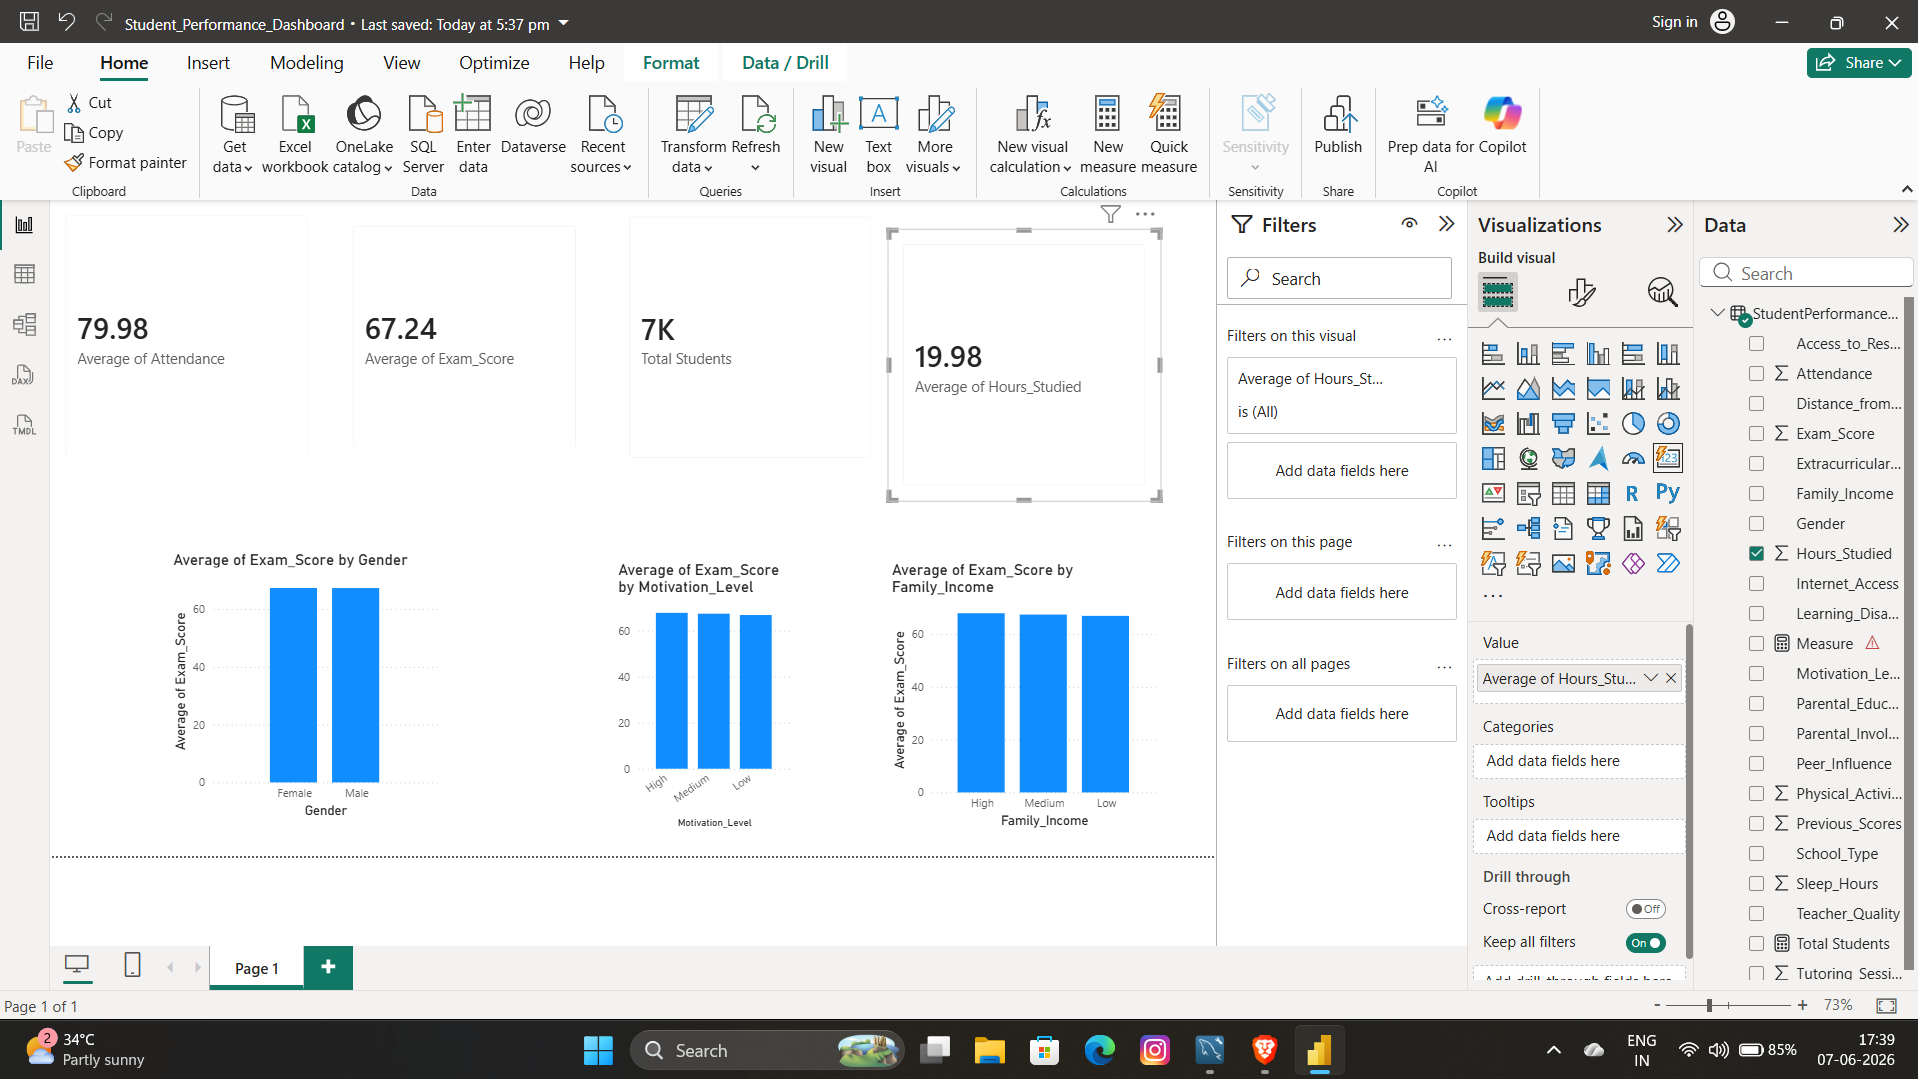

Layout of this report page (visuals, bound fields, positions):
{"tool":"powerbi","page":{"name":"Page 1","canvas":[1280,720],"ordinal":0},"visuals":[{"type":"cardVisual","fields":{"Data":["Avg(StudentPerformanceFactors.Exam_Score)"]},"box":[290.9,0,279.9,279.9],"z":5},{"type":"cardVisual","fields":{"Data":["Avg(StudentPerformanceFactors.Attendance)"]},"box":[0,0,300.5,300.5],"z":6},{"type":"cardVisual","fields":{"Data":["Avg(StudentPerformanceFactors.Hours_Studied)"]},"box":[784.9,0,300.5,299.1],"z":7},{"type":"cardVisual","fields":{"Data":["StudentPerformanceFactors.Total Students"]},"box":[570.8,0,300.5,299.1],"z":9},{"type":"clusteredColumnChart","fields":{"Category":["StudentPerformanceFactors.Gender"],"Y":["Avg(StudentPerformanceFactors.Exam_Score)"]},"box":[0,359.5,300.5,299.1],"z":10},{"type":"clusteredColumnChart","fields":{"Category":["StudentPerformanceFactors.Motivation_Level"],"Y":["Avg(StudentPerformanceFactors.Exam_Score)"]},"box":[371.9,359.5,199,299.1],"z":11},{"type":"clusteredColumnChart","fields":{"Category":["StudentPerformanceFactors.Family_Income"],"Y":["Avg(StudentPerformanceFactors.Exam_Score)"]},"box":[758.8,338.9,300.5,299.1],"z":12}]}

Visuals, with their boxes in screenshot pixels (x1, y1, x2, y2):
cardVisual - Avg(StudentPerformanceFactors.Exam_Score): bbox(315, 35, 729, 449)
cardVisual - Avg(StudentPerformanceFactors.Attendance): bbox(0, 35, 329, 479)
cardVisual - Avg(StudentPerformanceFactors.Hours_Studied): bbox(1045, 35, 1489, 477)
cardVisual - StudentPerformanceFactors.Total Students: bbox(729, 35, 1173, 477)
clusteredColumnChart - StudentPerformanceFactors.Gender x Avg(StudentPerformanceFactors.Exam_Score): bbox(0, 566, 329, 1008)
clusteredColumnChart - StudentPerformanceFactors.Motivation_Level x Avg(StudentPerformanceFactors.Exam_Score): bbox(435, 566, 729, 1008)
clusteredColumnChart - StudentPerformanceFactors.Family_Income x Avg(StudentPerformanceFactors.Exam_Score): bbox(1006, 536, 1450, 978)
